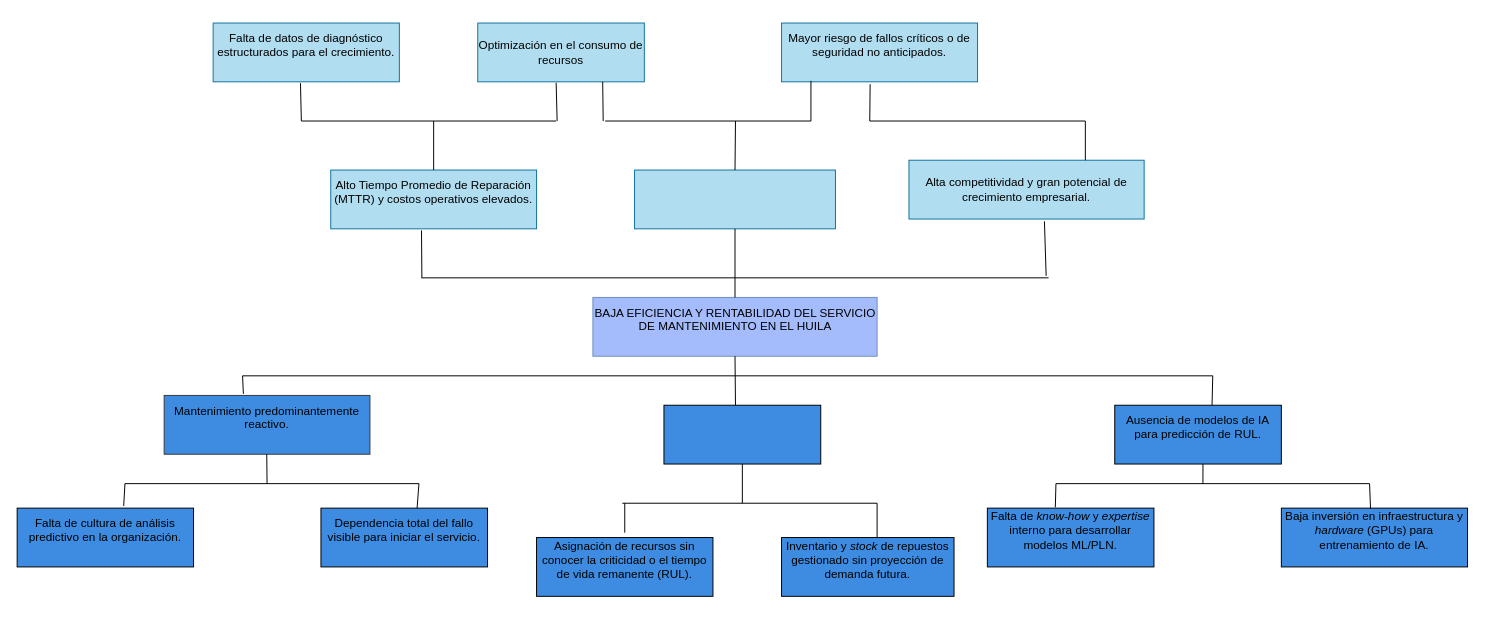
Image size: 1485x625. Some labels were removed from this diagram. The centre of each missing label's shape, as x and y in pixels:
"Decisión logística basada en experiencia empírica." belongs at [742,434].
"Deterioro en la satisfacción y confianza del cliente." belongs at [734,199].
